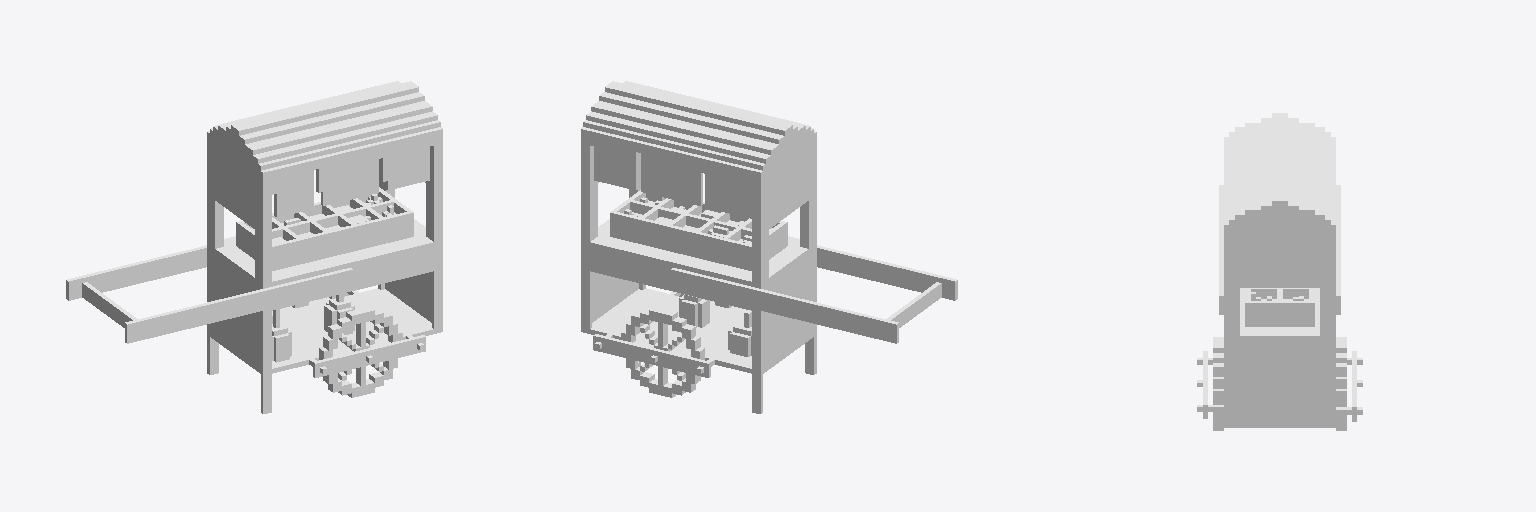
The model's file is odennnoyatai.obj.
3 renders of one model, left to right at view 1: azimuth 30°, elevation 25°; view 2: azimuth 150°, elevation 25°; view 3: azimuth 270°, elevation 25°, orthographic.
Parts seen in each view (by area): view 1: object 1; view 2: object 1; view 3: object 1.
Part boxes in pixels (x1,y1,x2,y2): object 1: (66, 81, 442, 413); object 1: (581, 81, 957, 413); object 1: (1197, 113, 1362, 430).
Size of the model in its own units: 6.9 by 5.5 by 3.1.